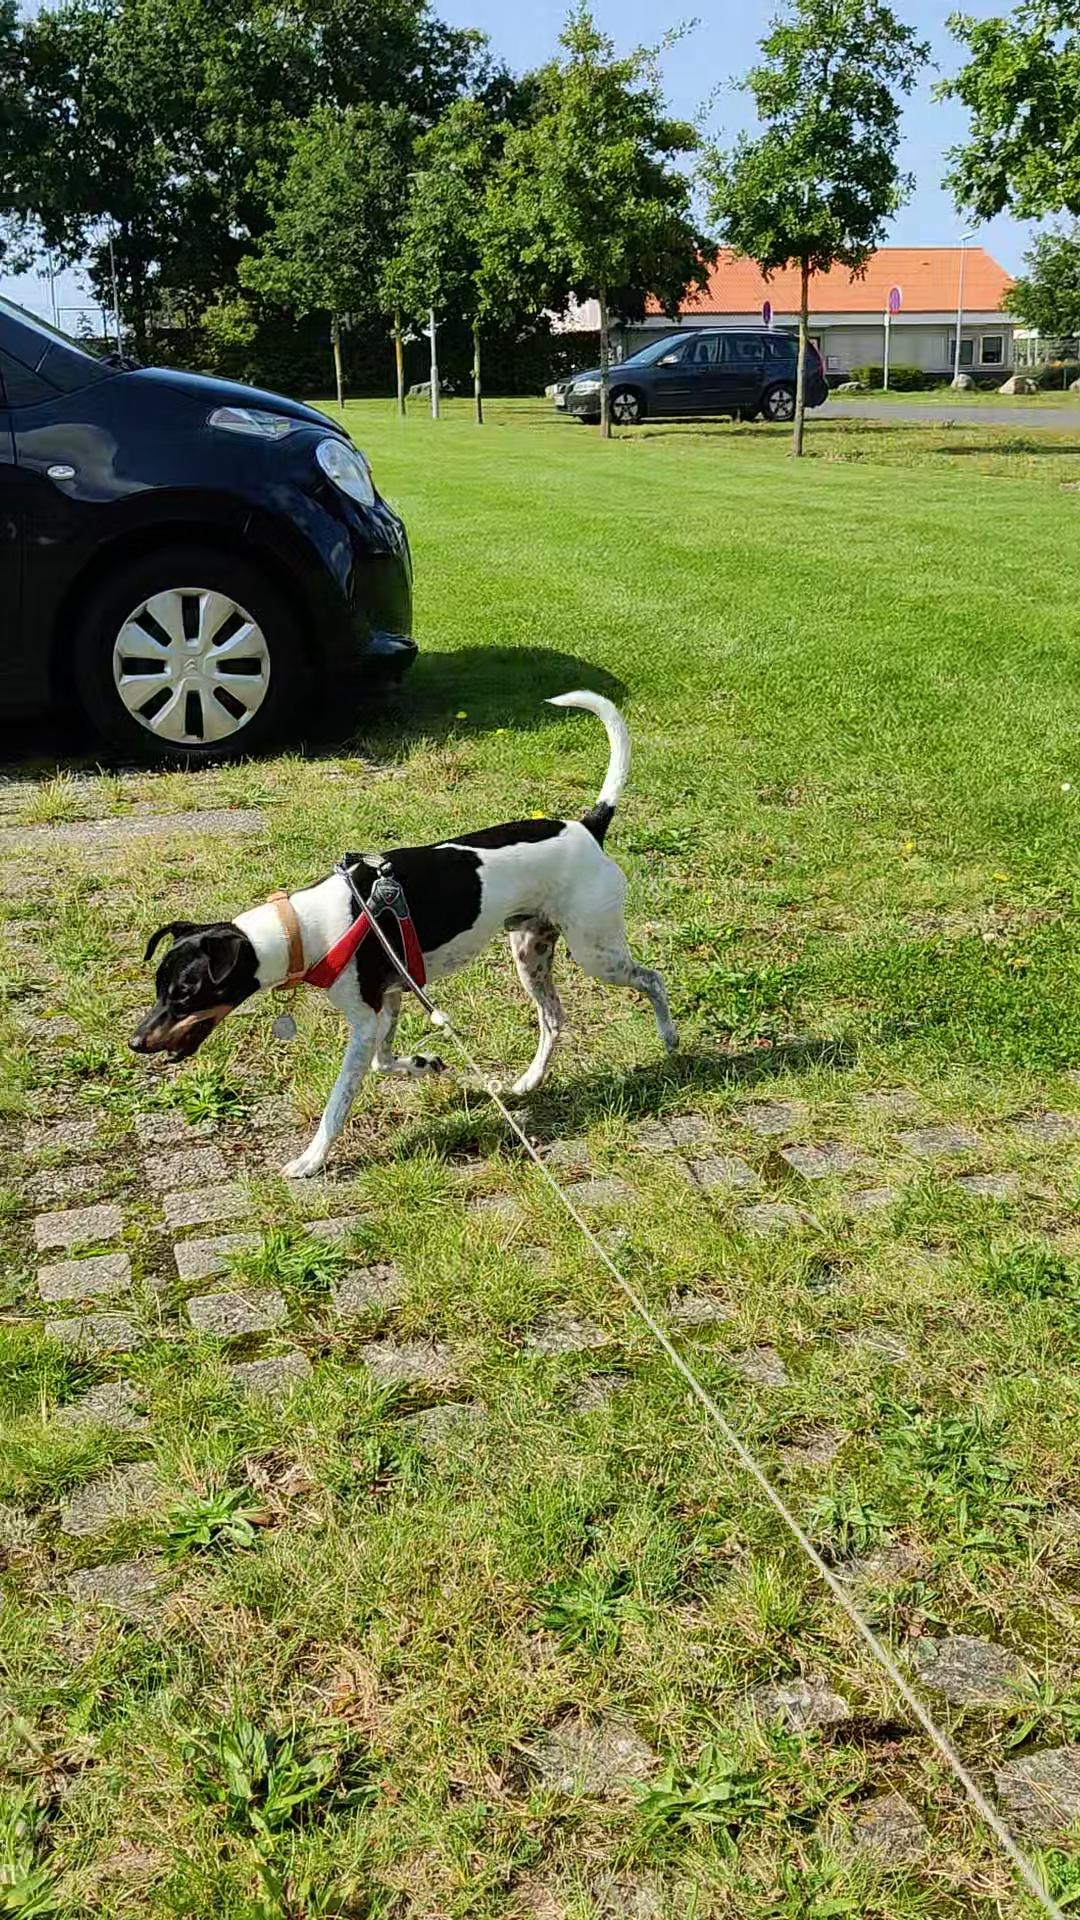Dog: (123, 684, 691, 1185)
